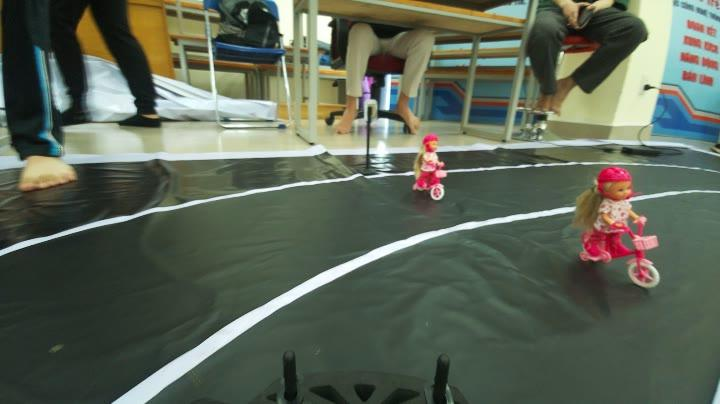pedestrian: (562, 155, 669, 295), (406, 131, 461, 208)
